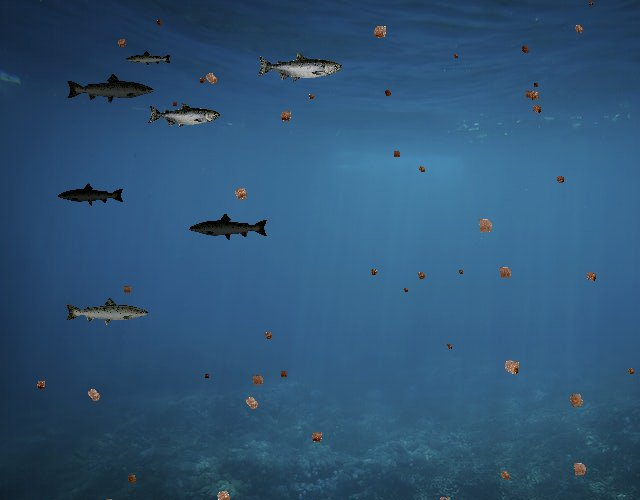Fish: (65, 73, 155, 105), (64, 296, 150, 327), (256, 52, 342, 83), (188, 213, 269, 242), (148, 103, 221, 129), (58, 183, 126, 207), (125, 51, 172, 68)
Pellet: (471, 211, 499, 239), (493, 260, 517, 284), (199, 66, 223, 90), (495, 465, 515, 485), (524, 85, 544, 105), (456, 266, 466, 276)
